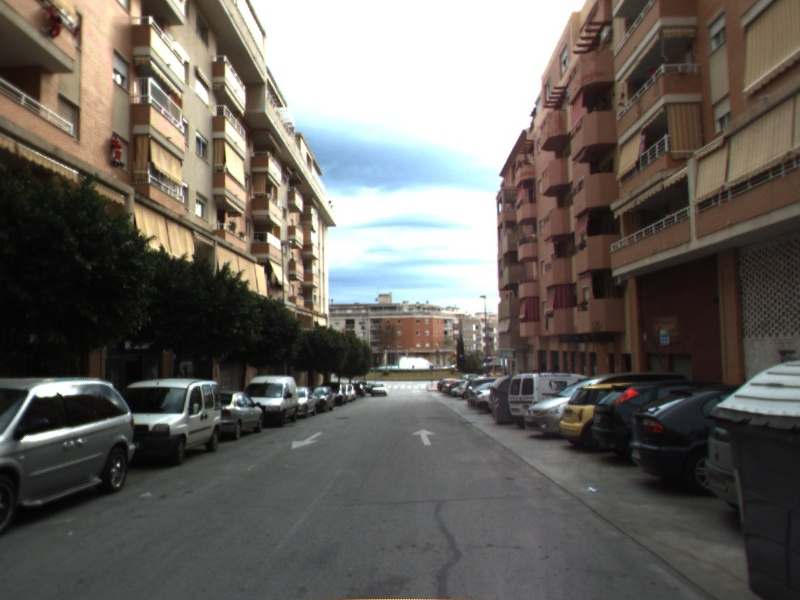STRAIGHT: (410, 426, 437, 447)
